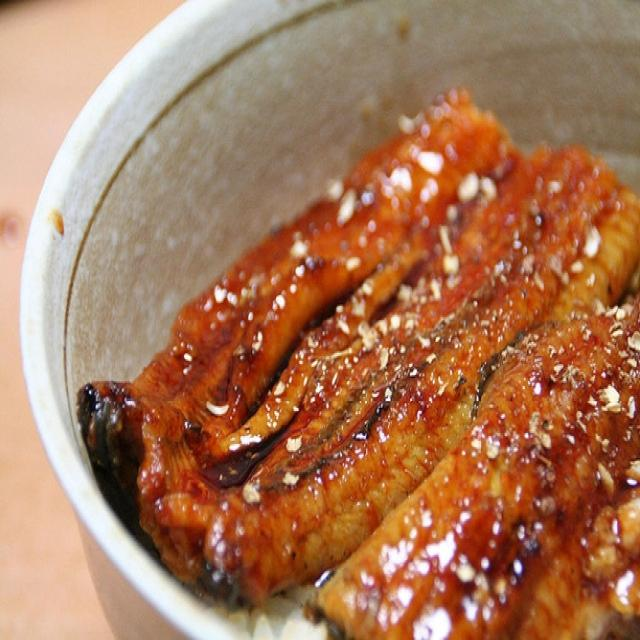熟制海鲜: (20, 8, 632, 634)
